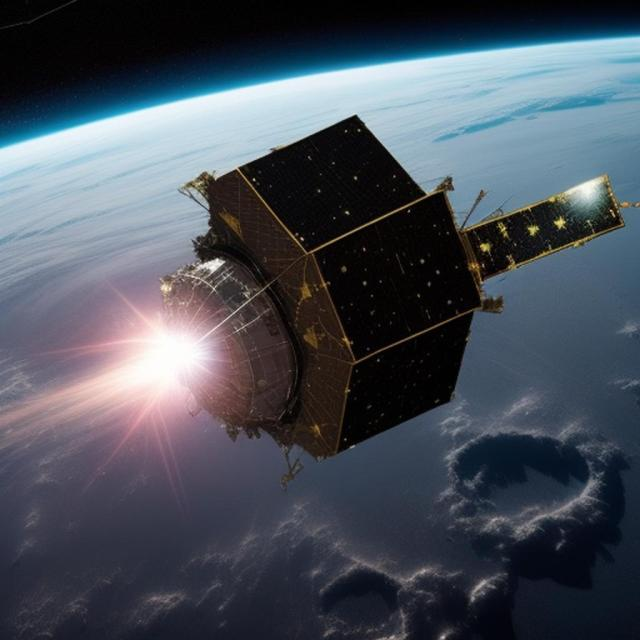satellite: (79, 98, 633, 473)
